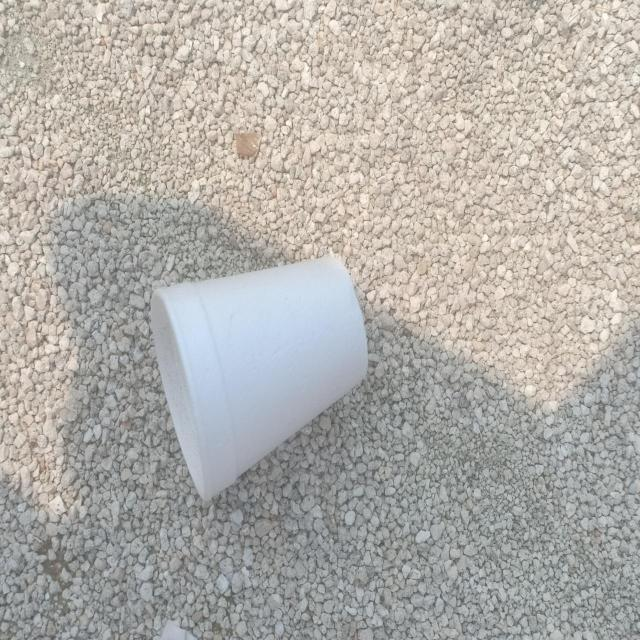styrofoam_waste: (150, 256, 371, 505)
